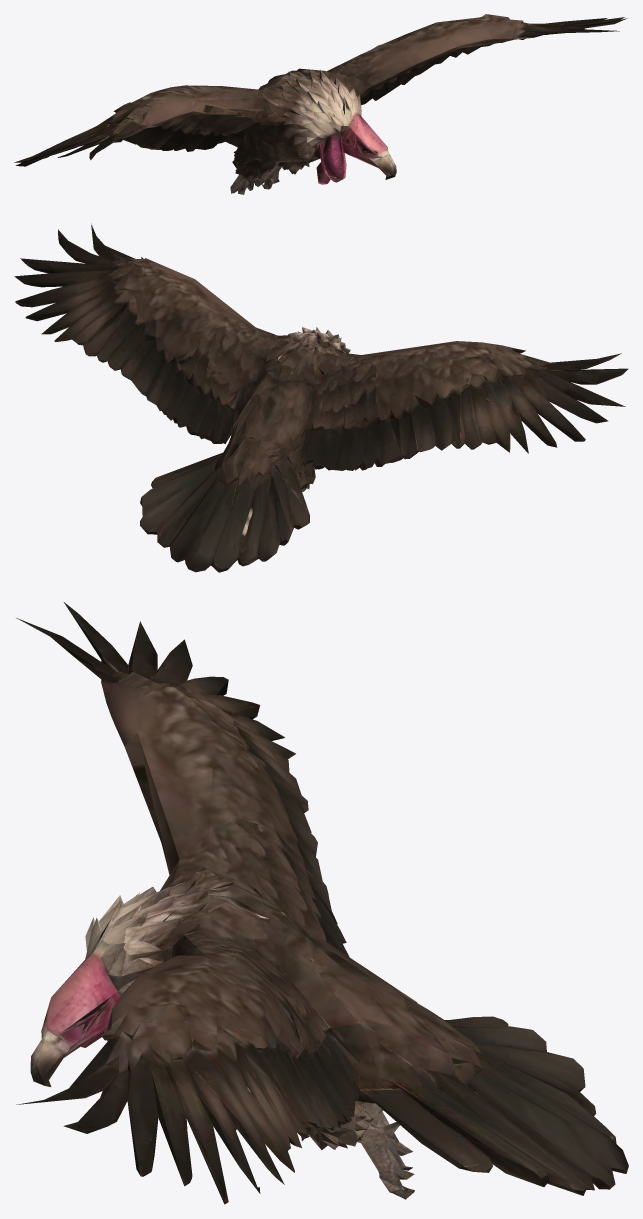
The model's file is vulture.glb.
3 views of the same model, one above another, from view 1: azimuth 30°, elevation 25°; view 2: azimuth 150°, elevation 25°; view 3: azimuth 270°, elevation 25° (orthographic). The views are drawn at different scales.
Size of the model in its own units: 1.89 by 0.5464 by 0.8846.
1 material, 1 textured.
